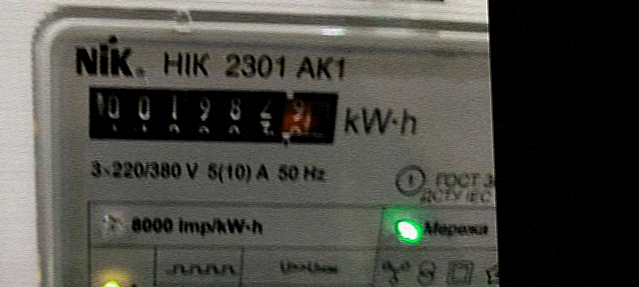0: (134, 91, 152, 121), (104, 89, 121, 119)
1: (166, 90, 179, 119)
2: (256, 89, 275, 119)
8: (226, 91, 243, 120)
9: (287, 94, 308, 122), (195, 92, 211, 121)
screen: (69, 60, 354, 167)
